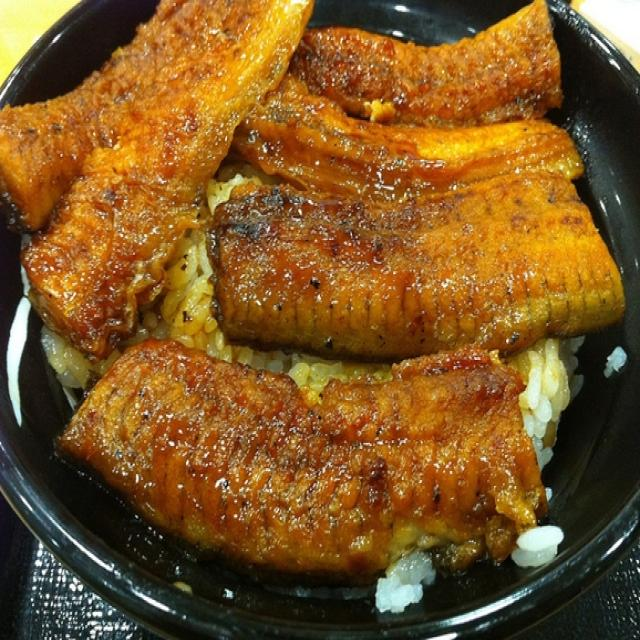熟制海鲜: (3, 11, 631, 610)
